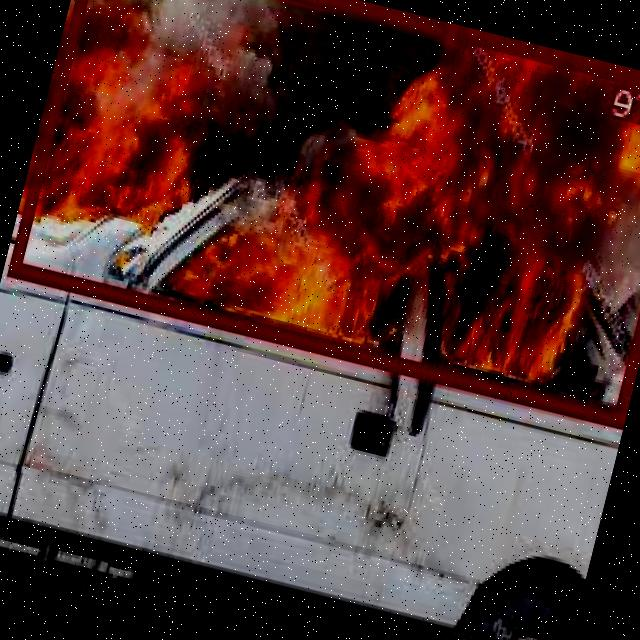fire: (13, 0, 640, 422)
